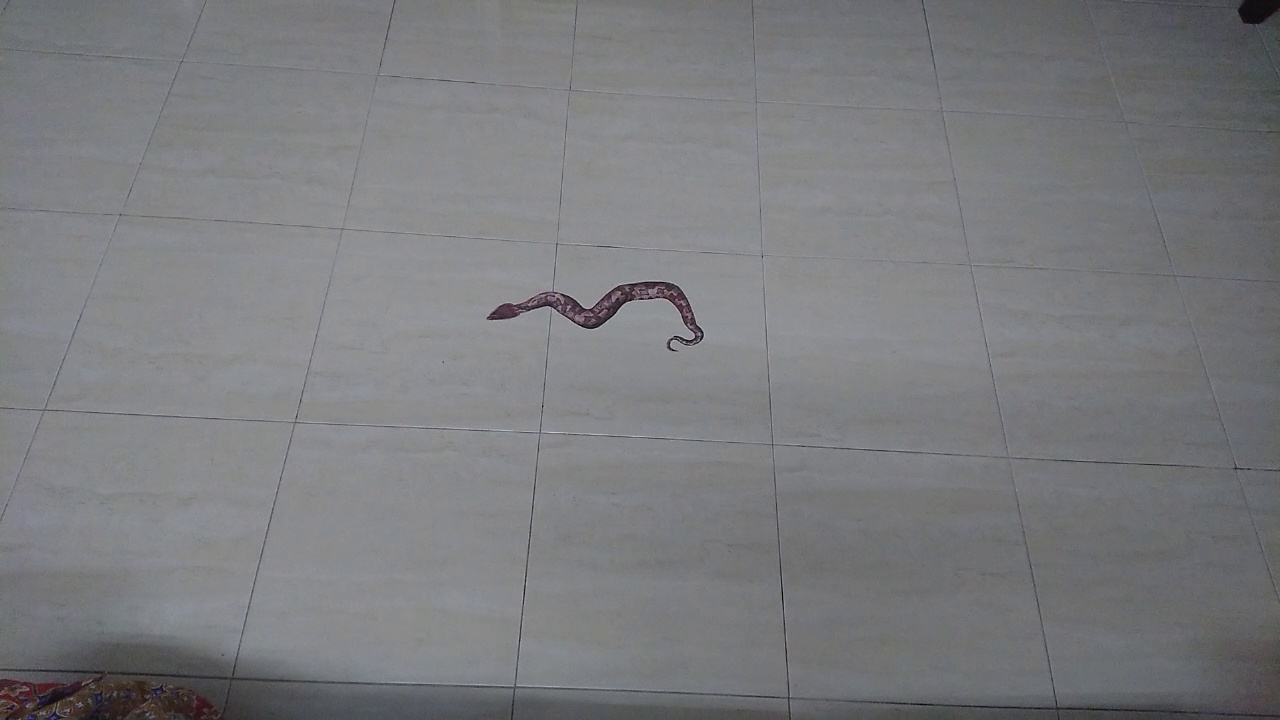snake: (470, 266, 734, 367)
